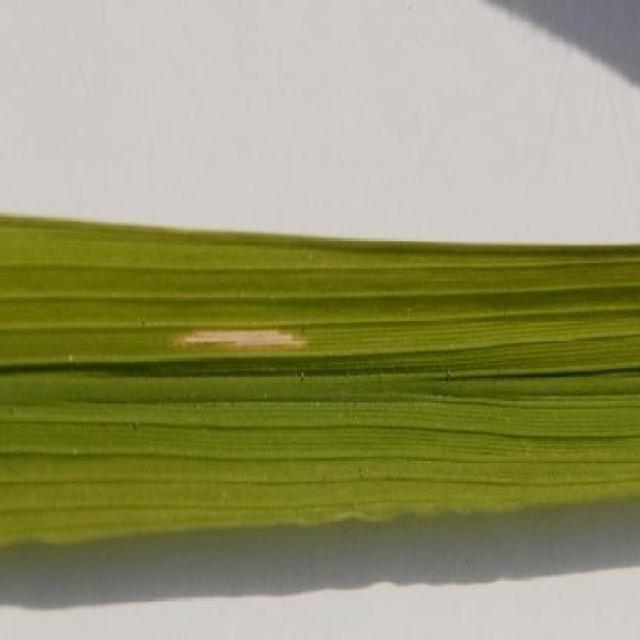Brown_Spot: (1, 193, 638, 550), (81, 258, 402, 434)
